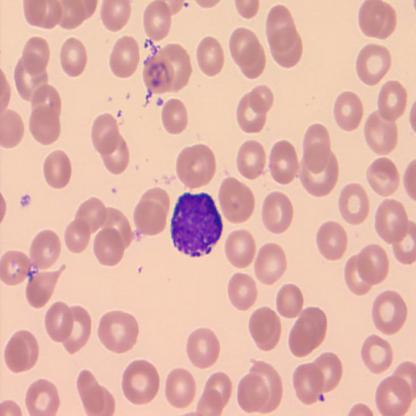Basophil: (168, 187, 225, 261)
